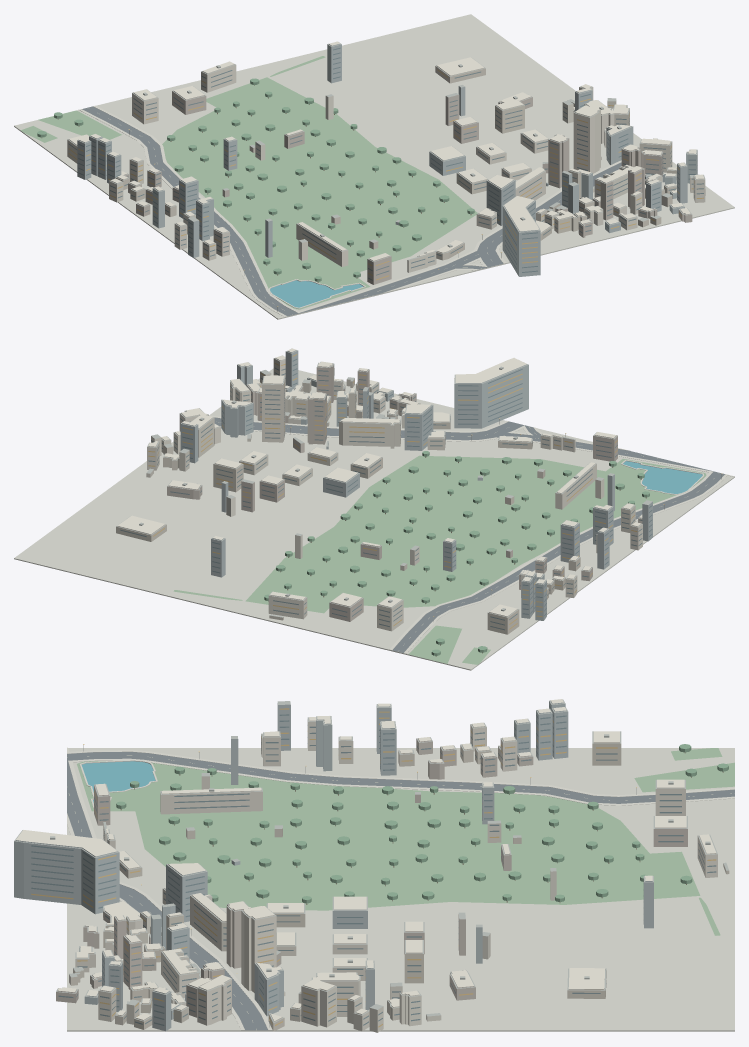
3 views of the same model, one above another, from view 1: azimuth 30°, elevation 25°; view 2: azimuth 150°, elevation 25°; view 3: azimuth 270°, elevation 25° (orthographic). The views are drawn at different scales.
Parts seen in each view (by area): view 1: city; view 2: city; view 3: city.
Part boxes in pixels (x1,y1,x2,y2): city: (14, 14, 734, 319); city: (14, 348, 734, 670); city: (14, 699, 734, 1032).
Size of the model in its own units: 510 by 62.05 by 540.
